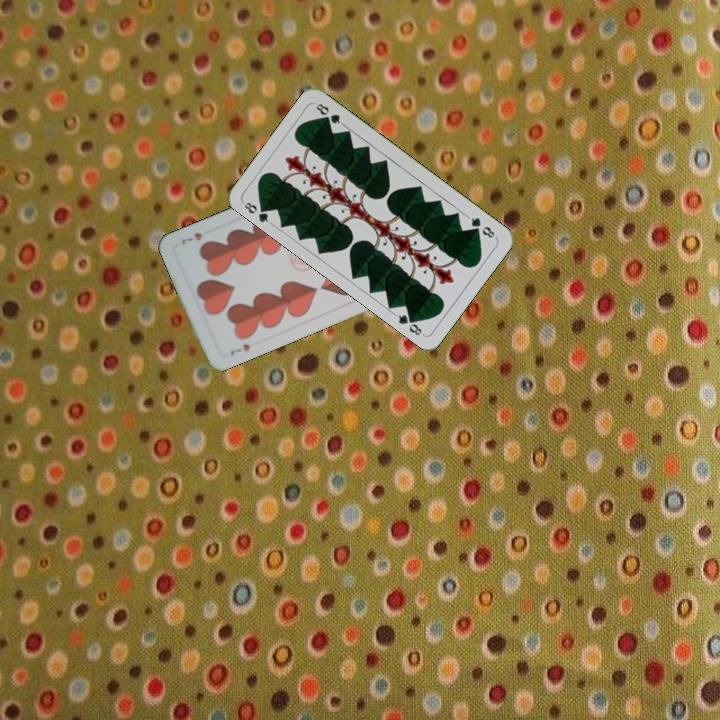G8: (239, 197, 274, 227), (464, 212, 499, 241)
H7: (226, 340, 252, 358)
